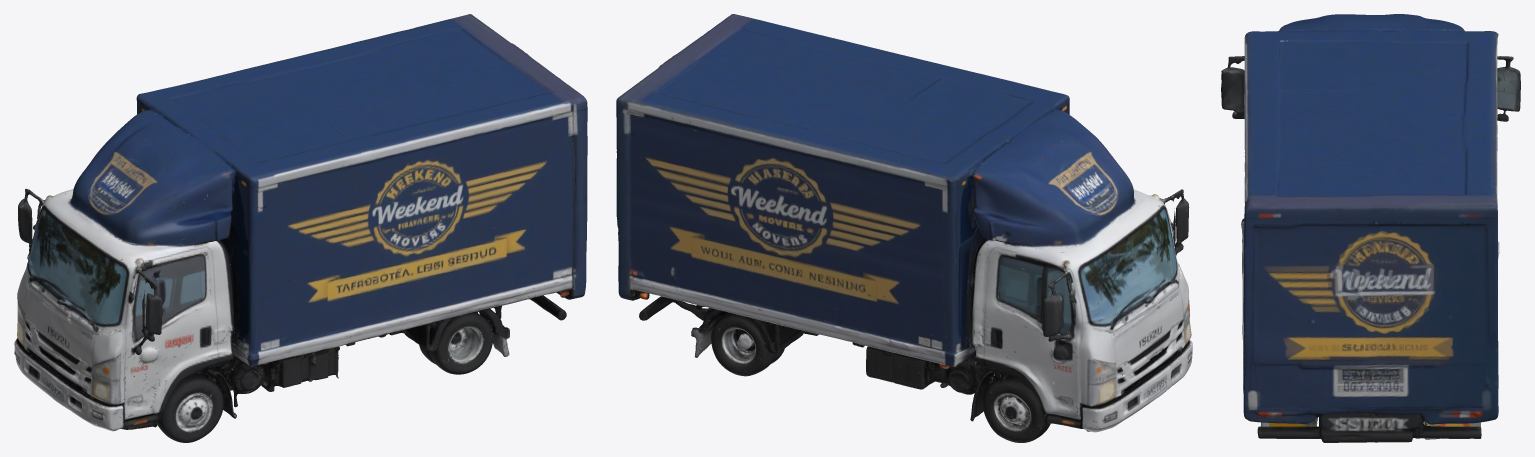
The model's file is truck-special-model.glb.
The picture shows the model from 3 angles, left to right: view 1: azimuth 30°, elevation 25°; view 2: azimuth 150°, elevation 25°; view 3: azimuth 270°, elevation 25°; orthographic projection. The views are drawn at different scales.
Size of the model in its own units: 2 by 1.04 by 1.
1 material, 1 textured.
